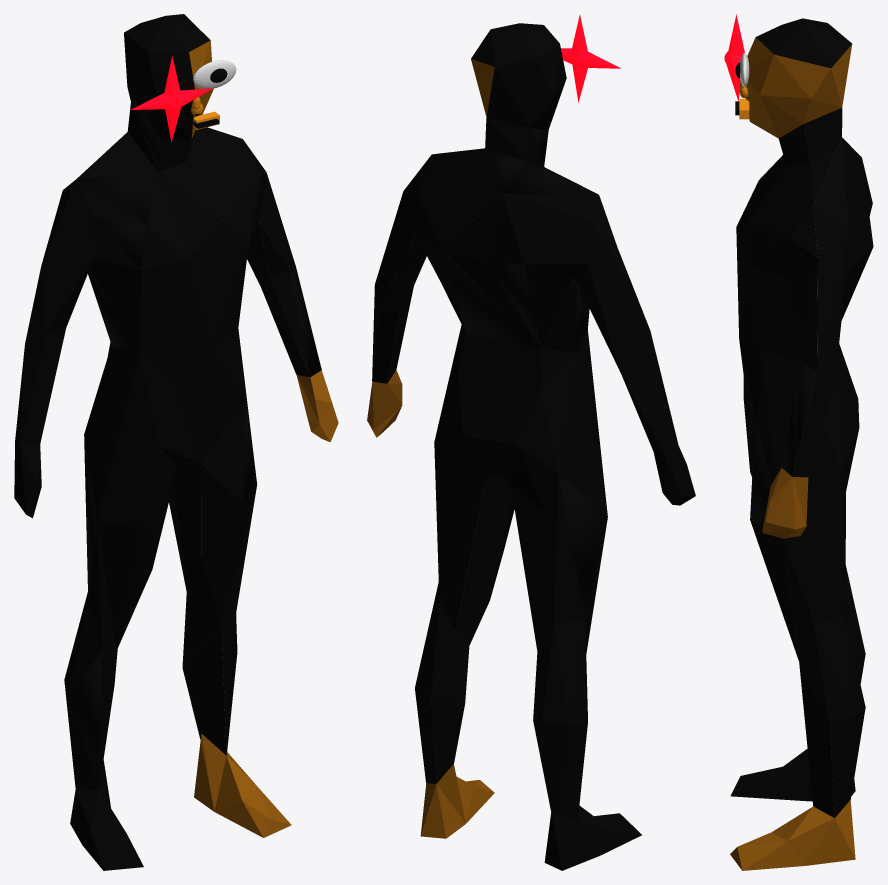
The model's file is BETTER_MODELSjoe-3d.fbx.
The picture shows the model from 3 angles, left to right: view 1: azimuth 30°, elevation 25°; view 2: azimuth 150°, elevation 25°; view 3: azimuth 270°, elevation 25°; orthographic projection.
Visible parts, largest first — view 1: low poly guy.001, low poly guy.002, low poly guy, Sphere; view 2: low poly guy.001, low poly guy.002, low poly guy; view 3: low poly guy.001, low poly guy.002, low poly guy, Cone.002.
Boxes of the visible parts, x1=… form: low poly guy.001: x1=15, y1=103, x2=321, y2=523; low poly guy.002: x1=64, y1=400, x2=257, y2=789; low poly guy: x1=14, y1=14, x2=338, y2=870; Sphere: x1=193, y1=60, x2=236, y2=88; low poly guy.001: x1=372, y1=118, x2=678, y2=516; low poly guy.002: x1=415, y1=436, x2=607, y2=820; low poly guy: x1=367, y1=23, x2=695, y2=870; low poly guy.001: x1=736, y1=108, x2=873, y2=507; low poly guy.002: x1=743, y1=400, x2=865, y2=818; low poly guy: x1=730, y1=18, x2=855, y2=870; Cone.002: x1=728, y1=14, x2=744, y2=56.
Bounding box in the file's own units: 7300 × 18000 × 3017.
